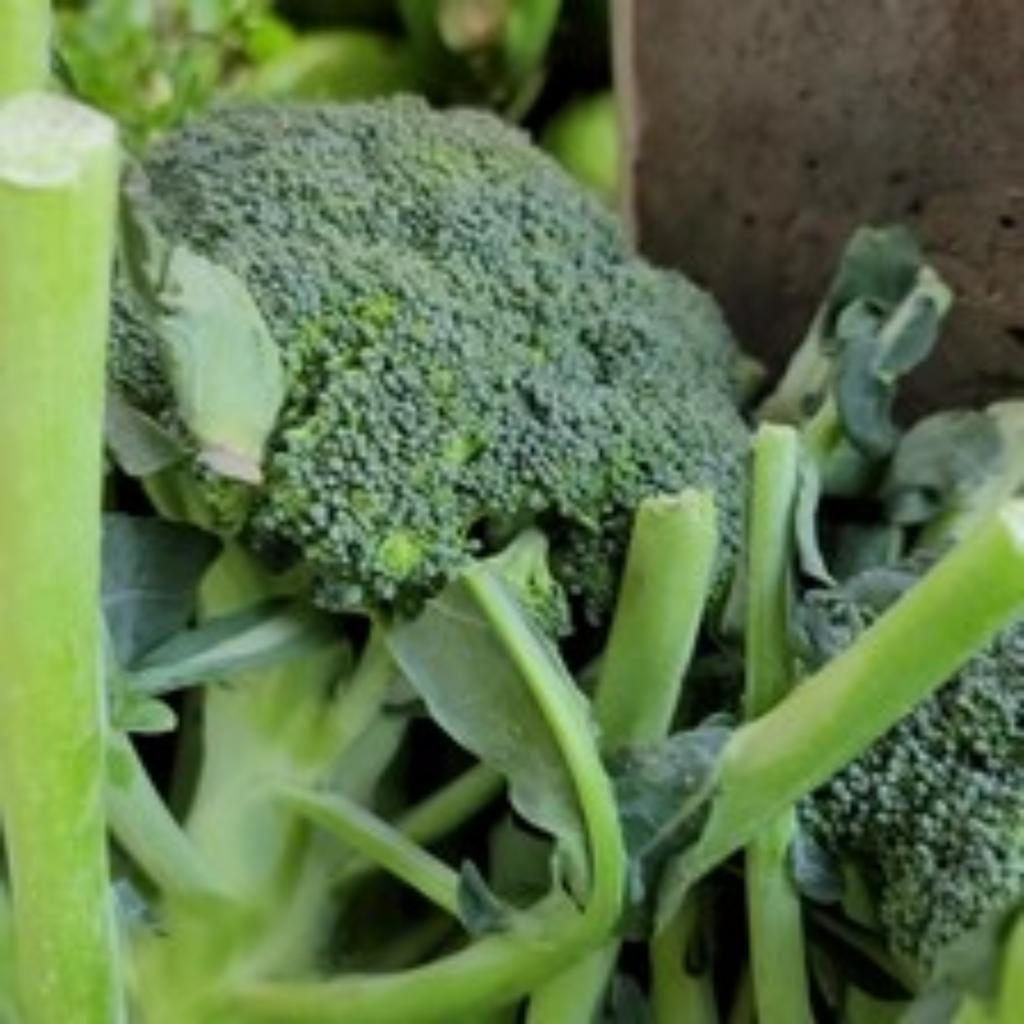Broccoli: (144, 98, 748, 619), (146, 98, 748, 619), (800, 622, 1024, 973), (800, 622, 1024, 973), (796, 568, 916, 664), (796, 568, 916, 663)
